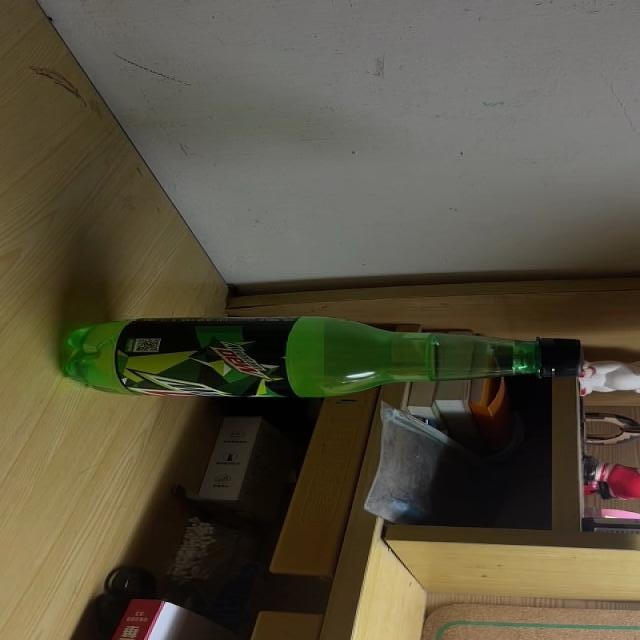Mountain-Dew: (63, 317, 588, 398)
